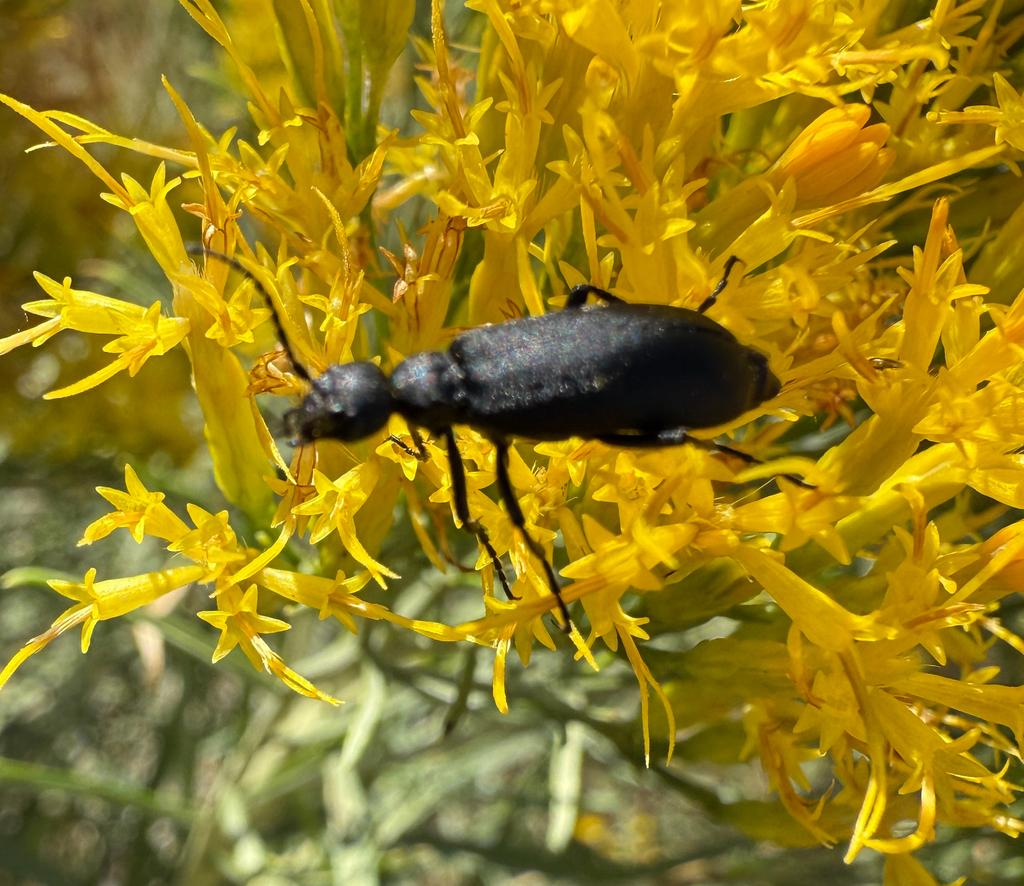blister_beetle: (123, 127, 938, 702)
